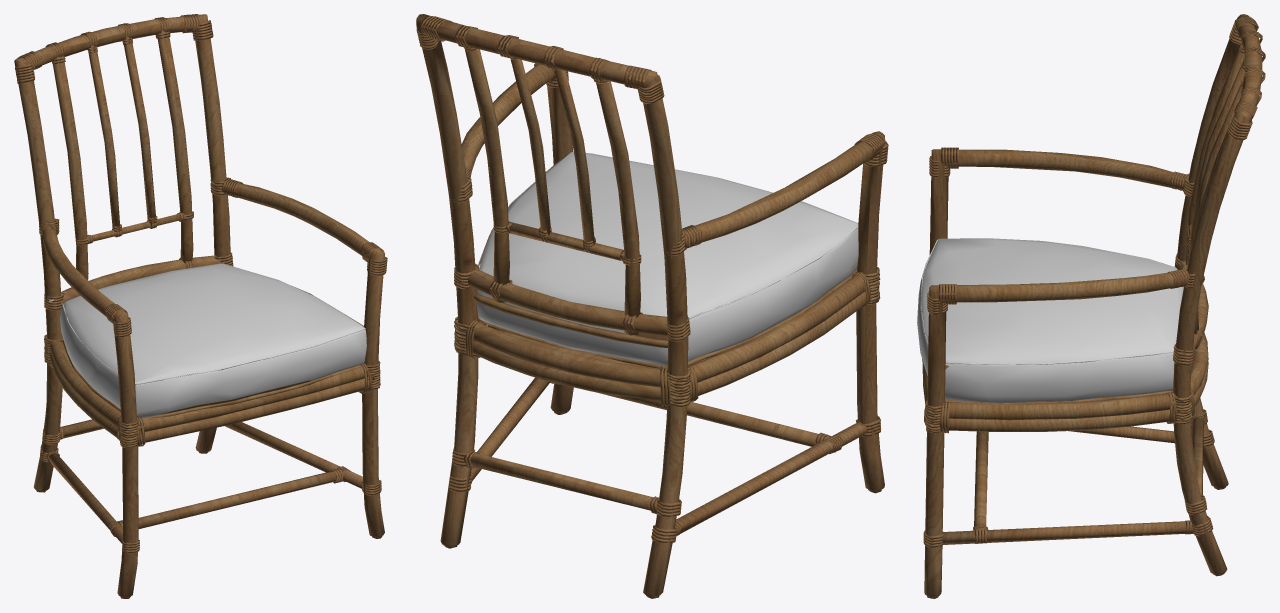
Rendered from chair4.fbx.
3 views of the same model, side by side, from view 1: azimuth 30°, elevation 25°; view 2: azimuth 150°, elevation 25°; view 3: azimuth 270°, elevation 25° (orthographic). The views are drawn at different scales.
Visible parts, largest first — view 1: uploads_files_223793_Chair; view 2: uploads_files_223793_Chair; view 3: uploads_files_223793_Chair.
Part boxes in pixels (x1,y1,x2,y2): uploads_files_223793_Chair: (14,14,387,598); uploads_files_223793_Chair: (416,14,888,598); uploads_files_223793_Chair: (917,14,1265,598).
Size of the model in its own units: 61.91 by 93.86 by 62.84.
